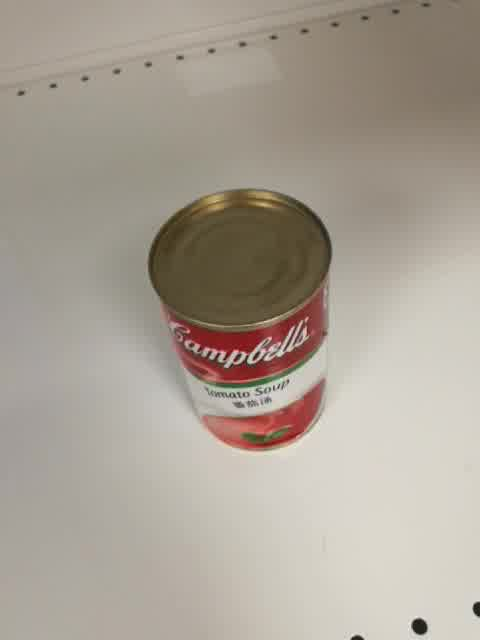tomatosoup: (145, 187, 333, 454)
